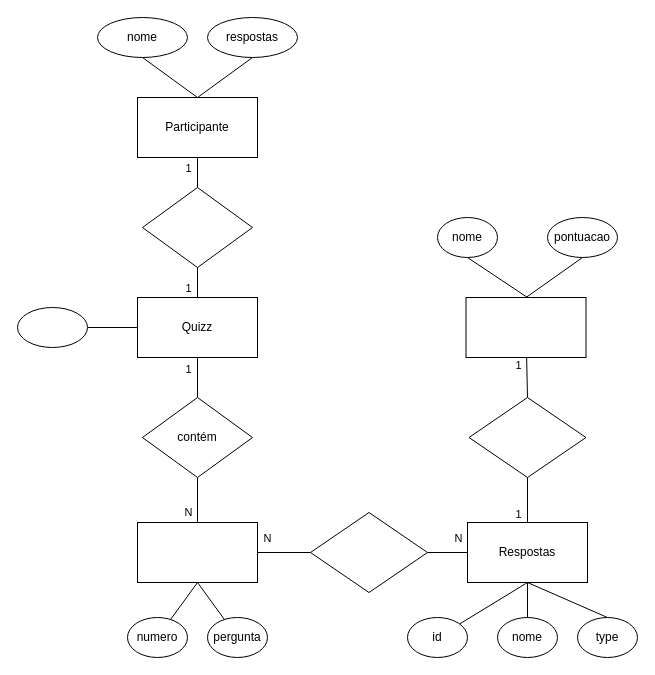
This 655x675 diagram has some shape labels left out. Each missing label, with the centre of its shape:
calcula-se: the point at 527,437
para as quais há: the point at 369,552
Perguntas: the point at 197,552
pontuação: the point at 52,327
PontuaçãoQuizz: the point at 525,327
preenche: the point at 197,227
